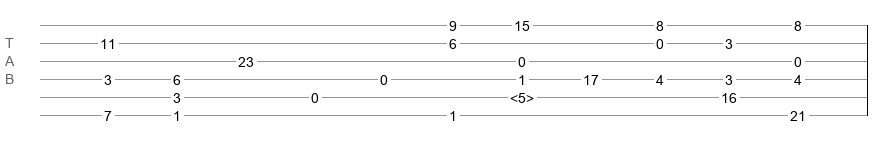0: (311, 90, 319, 100), (380, 72, 388, 82), (518, 54, 526, 64), (656, 36, 664, 46), (794, 54, 802, 64)
1: (173, 108, 181, 118), (449, 108, 457, 118), (518, 72, 526, 82)
11: (100, 36, 116, 46)
15: (514, 18, 530, 28)
16: (721, 90, 737, 100)
17: (583, 72, 599, 82)
21: (790, 108, 806, 118)
23: (238, 54, 254, 64)
3: (104, 72, 112, 82), (173, 90, 181, 100), (725, 72, 733, 82), (725, 36, 733, 46)
4: (656, 72, 664, 82), (794, 72, 802, 82)
6: (173, 72, 181, 82), (449, 36, 457, 46)
7: (104, 108, 112, 118)
8: (656, 18, 664, 28), (794, 18, 802, 28)
9: (449, 18, 457, 28)
harmonic: (510, 90, 534, 100)
